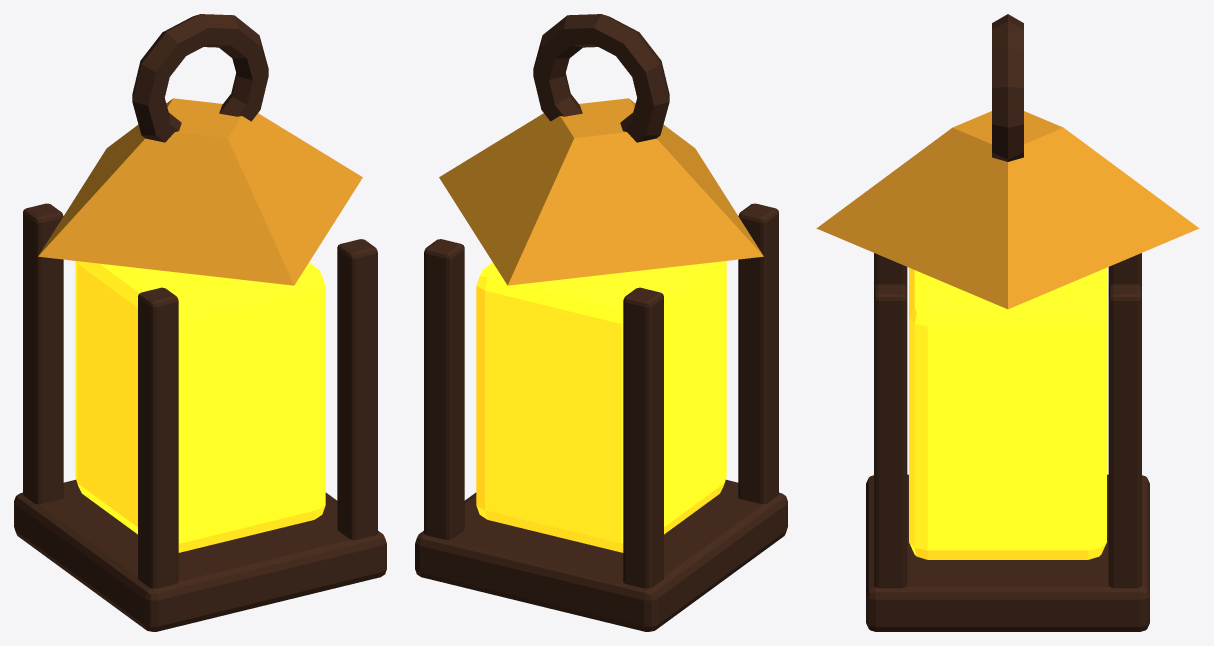
The model's file is kit_lantern.glb.
3 views of the same model, side by side, from view 1: azimuth 30°, elevation 25°; view 2: azimuth 150°, elevation 25°; view 3: azimuth 270°, elevation 25° (orthographic). The views are drawn at different scales.
Visible parts, largest first — view 1: Lantern amber glass, Lantern roof, Lantern bottom, Lantern corner, Lantern corner.002, Lantern corner.001, Lantern hanger; view 2: Lantern amber glass, Lantern roof, Lantern bottom, Lantern corner.001, Lantern corner.003, Lantern corner, Lantern hanger; view 3: Lantern amber glass, Lantern roof, Lantern bottom, Lantern corner.002, Lantern corner.003, Lantern hanger, Lantern corner, Lantern corner.001.
Part boxes in pixels (bbox=[...]): Lantern amber glass: bbox=[75, 261, 325, 552]; Lantern roof: bbox=[38, 98, 362, 285]; Lantern bottom: bbox=[14, 479, 386, 631]; Lantern corner: bbox=[138, 287, 178, 588]; Lantern corner.002: bbox=[337, 239, 377, 540]; Lantern corner.001: bbox=[23, 203, 63, 504]; Lantern hanger: bbox=[132, 14, 268, 142]; Lantern amber glass: bbox=[476, 261, 726, 552]; Lantern roof: bbox=[439, 98, 763, 285]; Lantern bottom: bbox=[415, 479, 787, 631]; Lantern corner.001: bbox=[623, 287, 663, 588]; Lantern corner.003: bbox=[424, 239, 464, 540]; Lantern corner: bbox=[738, 203, 778, 504]; Lantern hanger: bbox=[533, 14, 669, 142]; Lantern amber glass: bbox=[909, 267, 1106, 559]; Lantern roof: bbox=[816, 111, 1199, 309]; Lantern bottom: bbox=[866, 474, 1149, 631]; Lantern corner.002: bbox=[874, 284, 907, 588]; Lantern corner.003: bbox=[1108, 284, 1141, 588]; Lantern hanger: bbox=[992, 14, 1023, 161]; Lantern corner: bbox=[874, 253, 907, 288]; Lantern corner.001: bbox=[1108, 253, 1141, 288].
Size of the model in its own units: 0.31 by 0.495 by 0.31.
